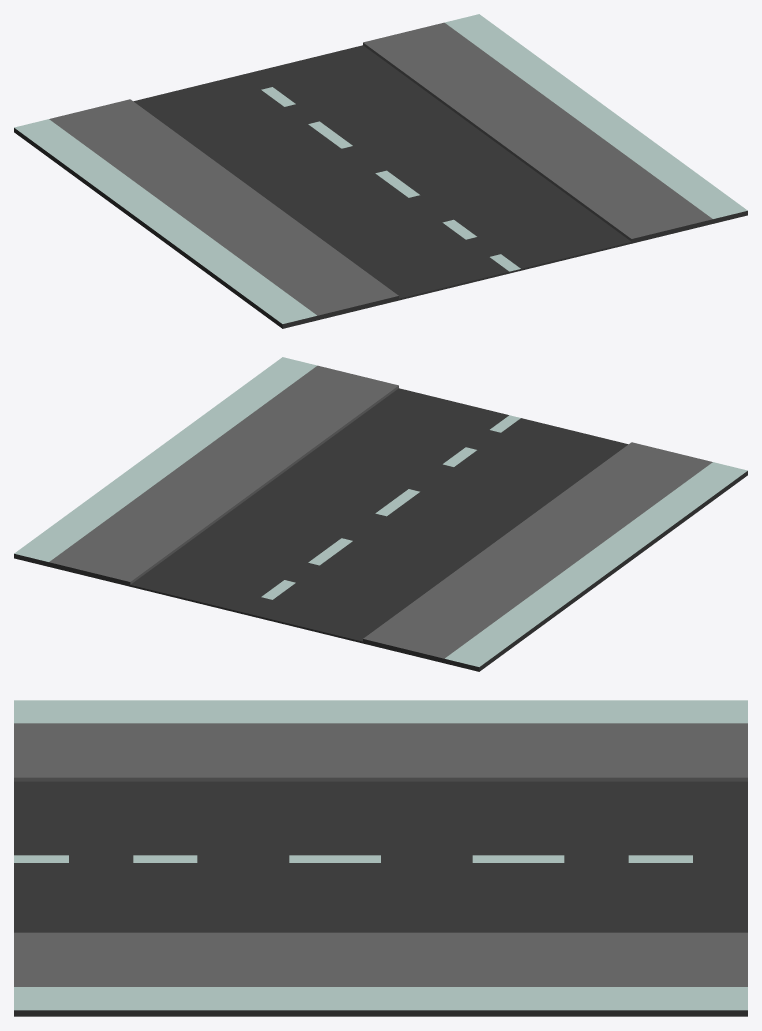
The model's file is road_2.0.fbx.
3 renders of one model, top to bottom at view 1: azimuth 30°, elevation 25°; view 2: azimuth 150°, elevation 25°; view 3: azimuth 270°, elevation 25°, orthographic. The views are drawn at different scales.
Parts seen in each view (by area): view 1: Cube; view 2: Cube; view 3: Cube.
Part boxes in pixels (<box>): Cube: <box>14,14,747,328</box>; Cube: <box>14,357,747,671</box>; Cube: <box>14,700,747,1016</box>.
Bounding box in the file's own units: 40 × 0.3871 × 40.
